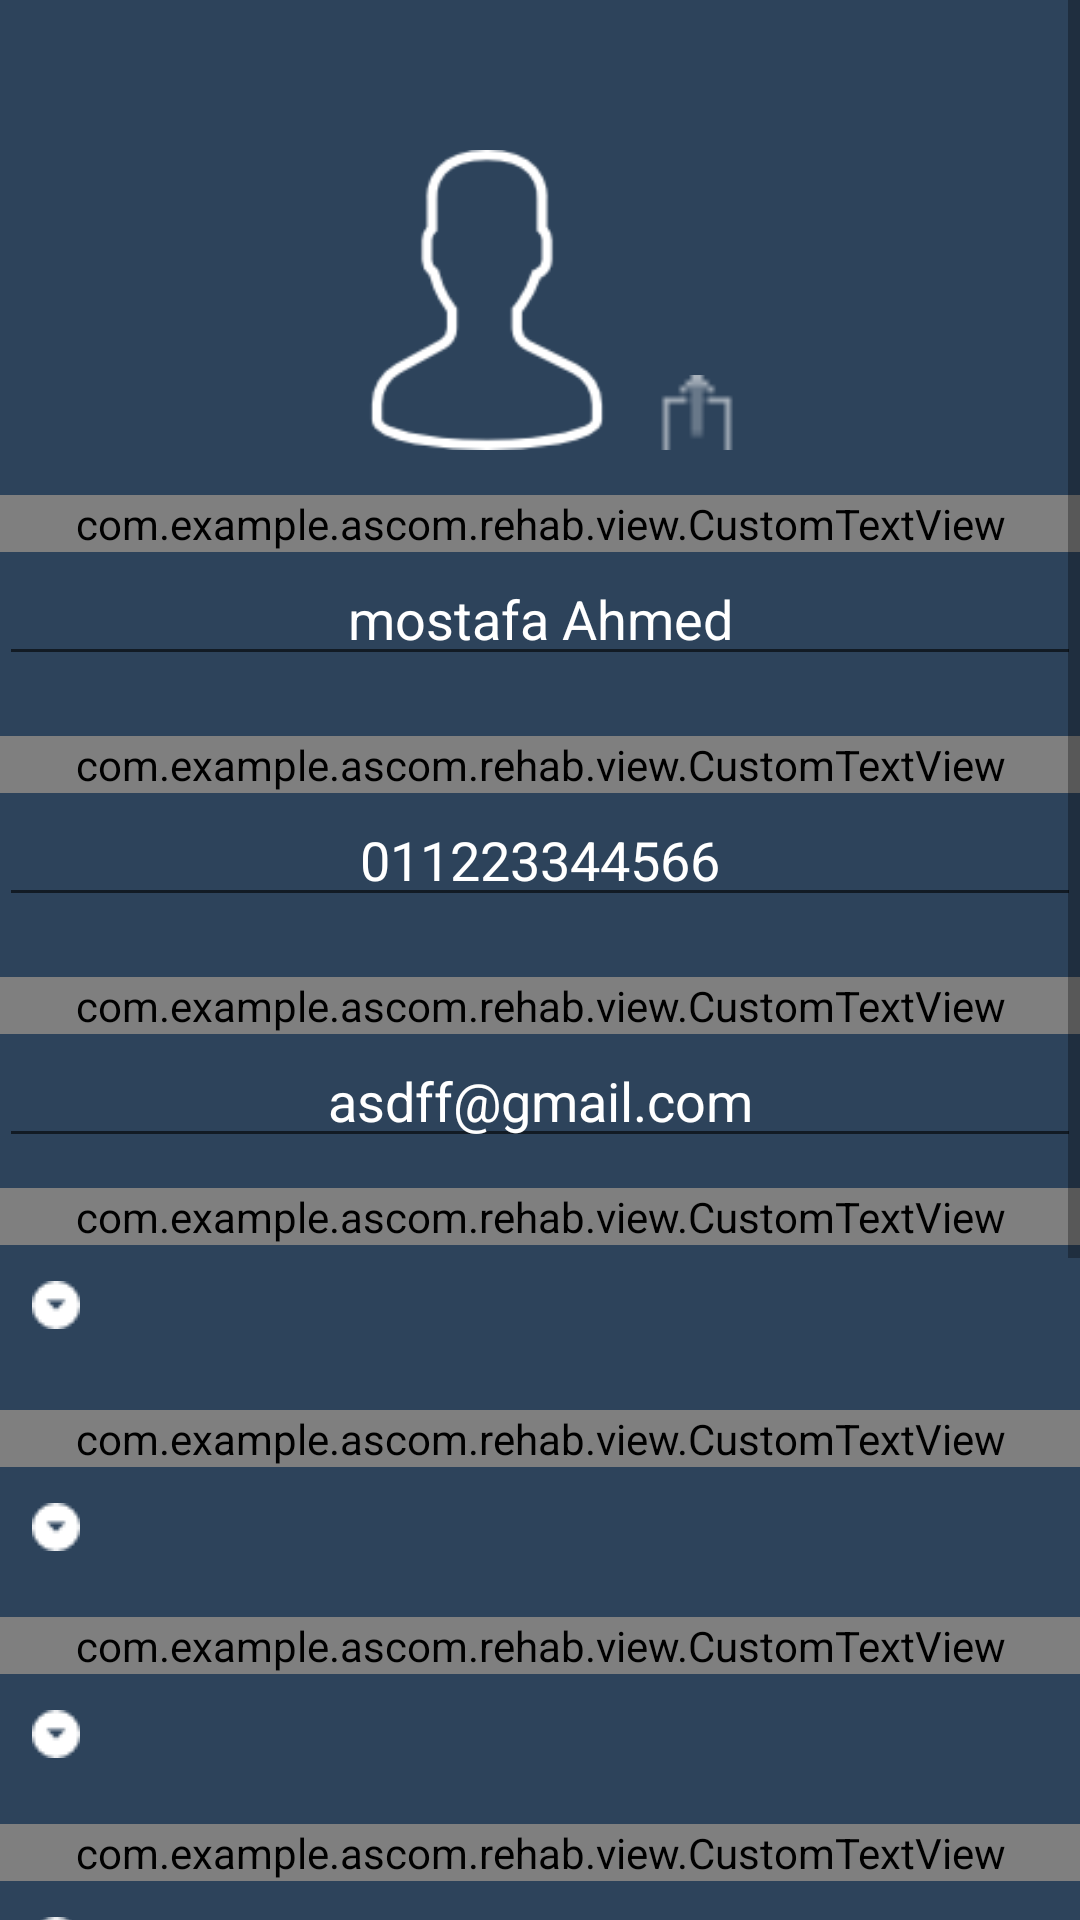

Icons on this 1080x1920 Android screen, each with the point to tap as [x,y]:
user: [487,300]
